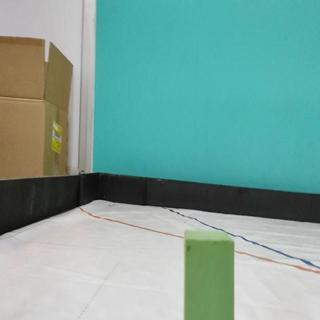greenbox: (183, 227, 236, 320)
